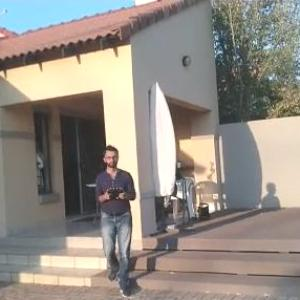follow: (94, 140, 142, 297)
